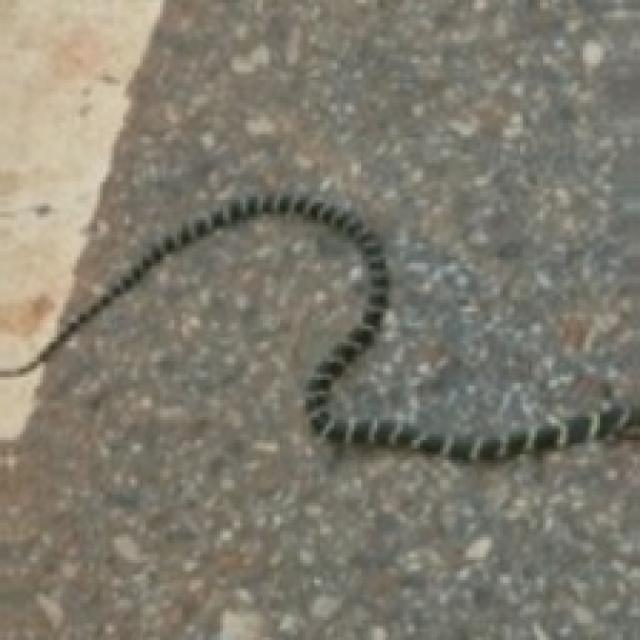king cobra: (0, 194, 637, 457)
